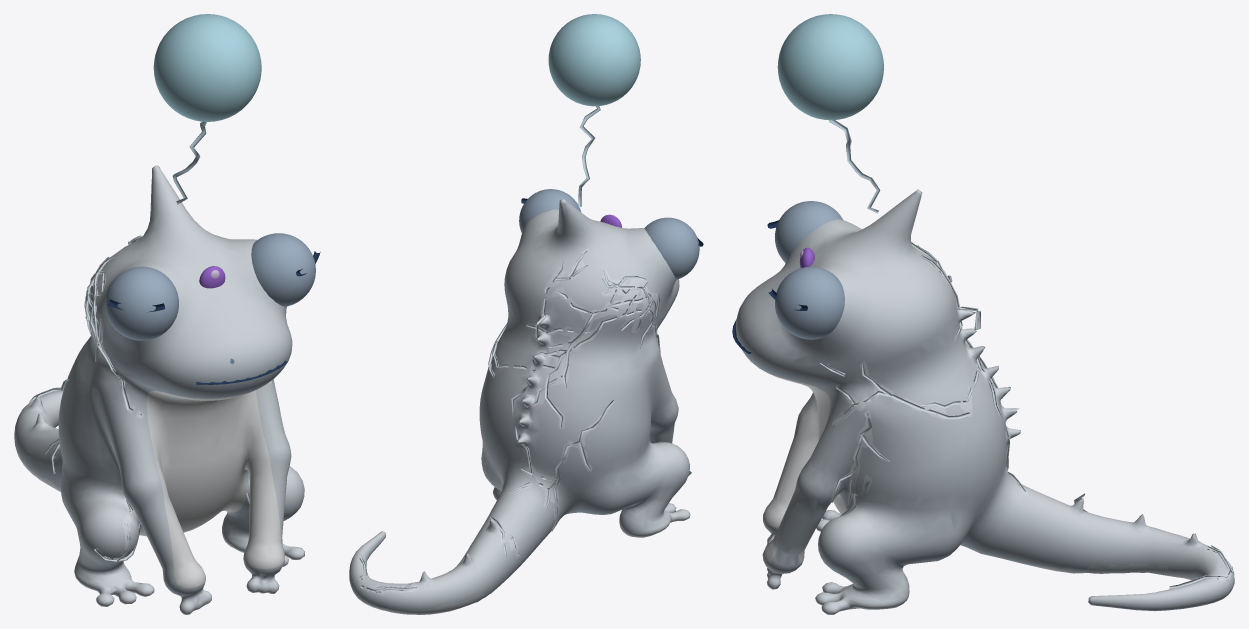
The model's file is croakarcun.glb.
3 views of the same model, side by side, from view 1: azimuth 30°, elevation 25°; view 2: azimuth 150°, elevation 25°; view 3: azimuth 270°, elevation 25° (orthographic). The views are drawn at different scales.
Visible parts, largest first — view 1: body, eyes, aura; view 2: body, eyes, aura; view 3: body, eyes, aura.
Boxes of the visible parts, x1,y1,x2,y2 form: body: (14, 165, 304, 614); eyes: (29, 233, 320, 562); aura: (153, 14, 261, 204); body: (349, 199, 690, 614); eyes: (359, 189, 703, 593); aura: (548, 14, 640, 206); body: (736, 189, 1234, 614); eyes: (732, 201, 1232, 589); aura: (777, 14, 883, 213).
Bounding box in the file's own units: 0.6519 × 1.49 × 1.23.
